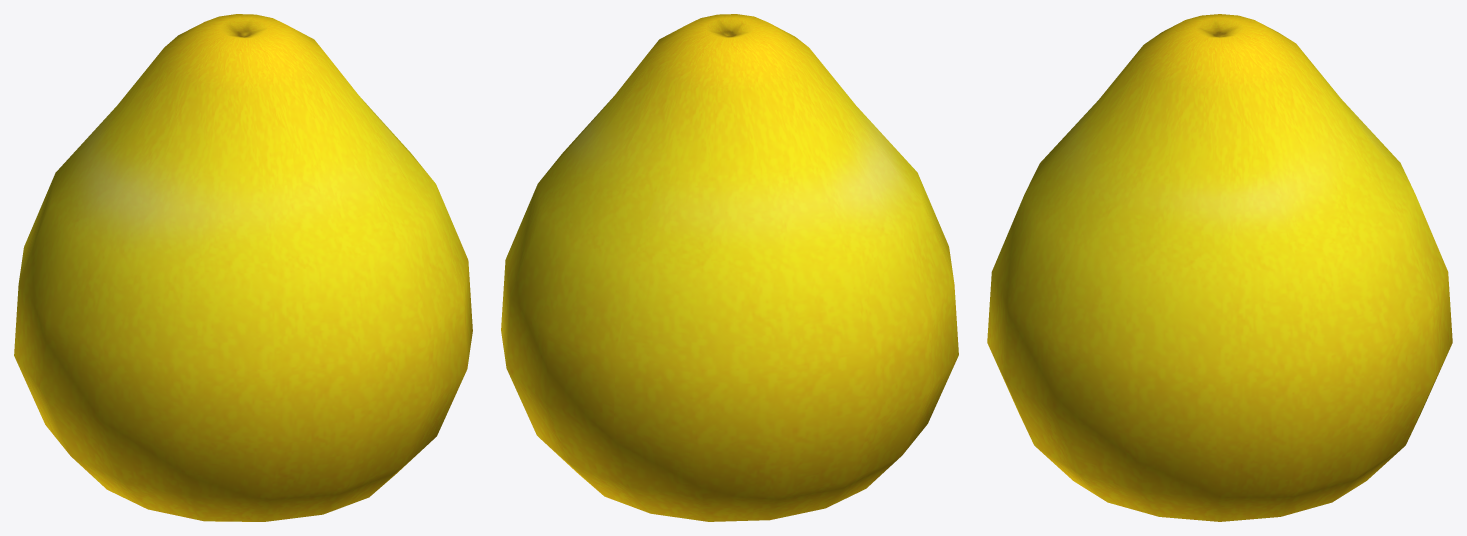
The model's file is Pomelo_Yellow.fbx.
The picture shows the model from 3 angles, left to right: view 1: azimuth 30°, elevation 25°; view 2: azimuth 150°, elevation 25°; view 3: azimuth 270°, elevation 25°; orthographic projection.
Visible parts, largest first — view 1: Pomelo_Yellow; view 2: Pomelo_Yellow; view 3: Pomelo_Yellow.
Part boxes in pixels (x1,y1,x2,y2): Pomelo_Yellow: [14, 14, 472, 521]; Pomelo_Yellow: [501, 14, 958, 521]; Pomelo_Yellow: [987, 14, 1452, 521].
Bounding box in the file's own units: 38.85 × 43.12 × 39.24.
Materials: 1 (1 with a texture image).
